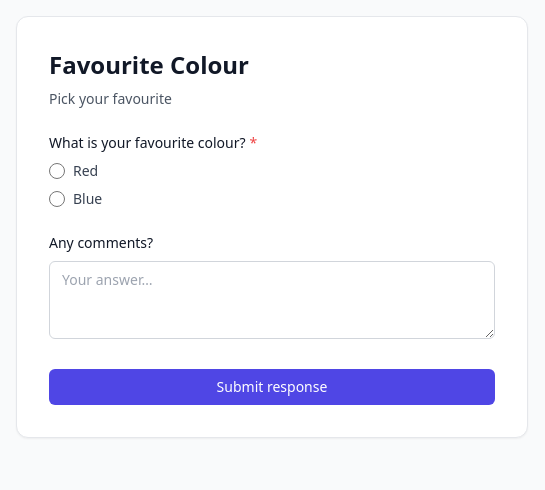
Test: PollPage › shows thank-you state after successful submit
Expected: the heading "Favourite Colour" is shown, left=49, top=48, right=249, bottom=81
Note: Select a radio option
Click the radio button labelled "Red" at point(57, 171), box left=49, top=163, right=65, bottom=179
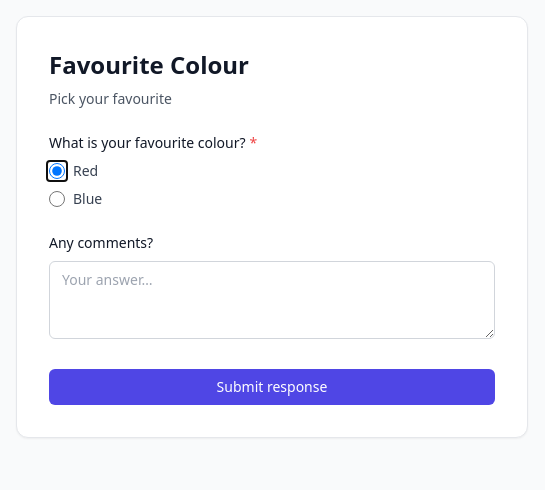
Click the button "Submit response" at point(272, 387), box left=49, top=369, right=495, bottom=405
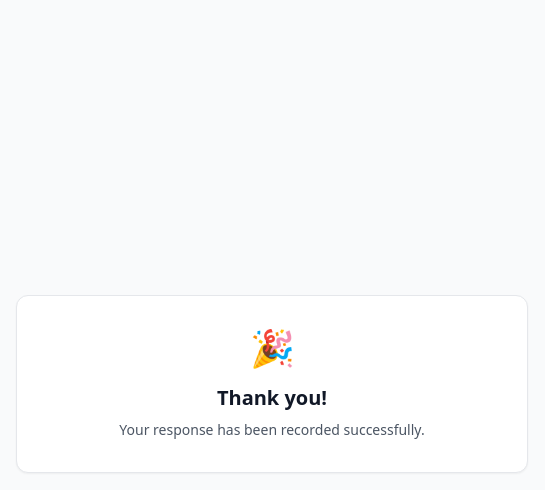
Result: the heading "Thank you!" is shown at left=217, top=384, right=327, bottom=411
